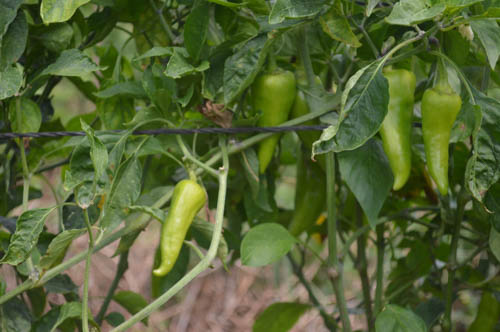ChiliPepper: (377, 68, 418, 197), (150, 182, 205, 275), (253, 72, 294, 170), (421, 95, 462, 190), (288, 164, 326, 235), (293, 84, 323, 148)
